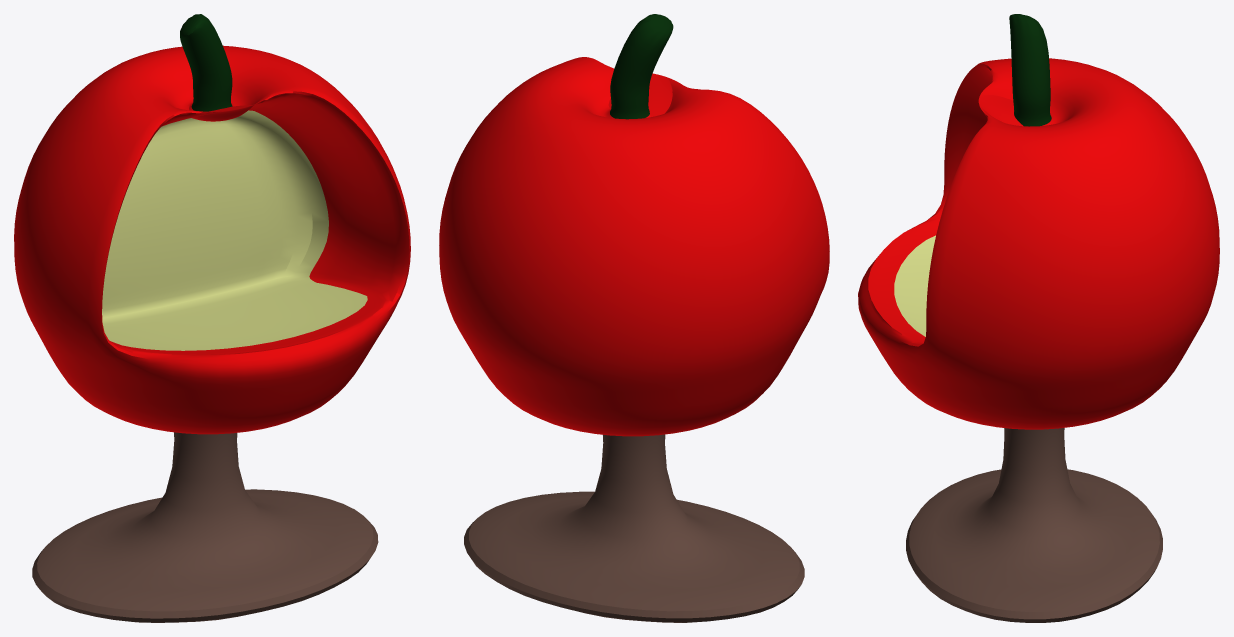
The model's file is Apple_ACC01.fbx.
3 views of the same model, side by side, from view 1: azimuth 30°, elevation 25°; view 2: azimuth 150°, elevation 25°; view 3: azimuth 270°, elevation 25° (orthographic). The views are drawn at different scales.
Parts seen in each view (by area): view 1: Sphere.002; view 2: Sphere.002; view 3: Sphere.002.
Boxes of the visible parts, x1=… form: Sphere.002: x1=14, y1=14, x2=410, y2=622; Sphere.002: x1=439, y1=14, x2=829, y2=622; Sphere.002: x1=858, y1=14, x2=1219, y2=622.
Bounding box in the file's own units: 4928 × 7865 × 4771.
